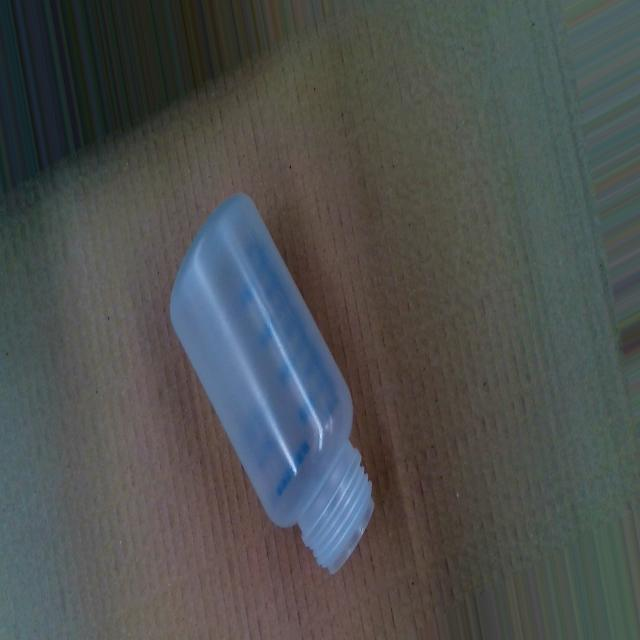bottle: (167, 189, 376, 579)
